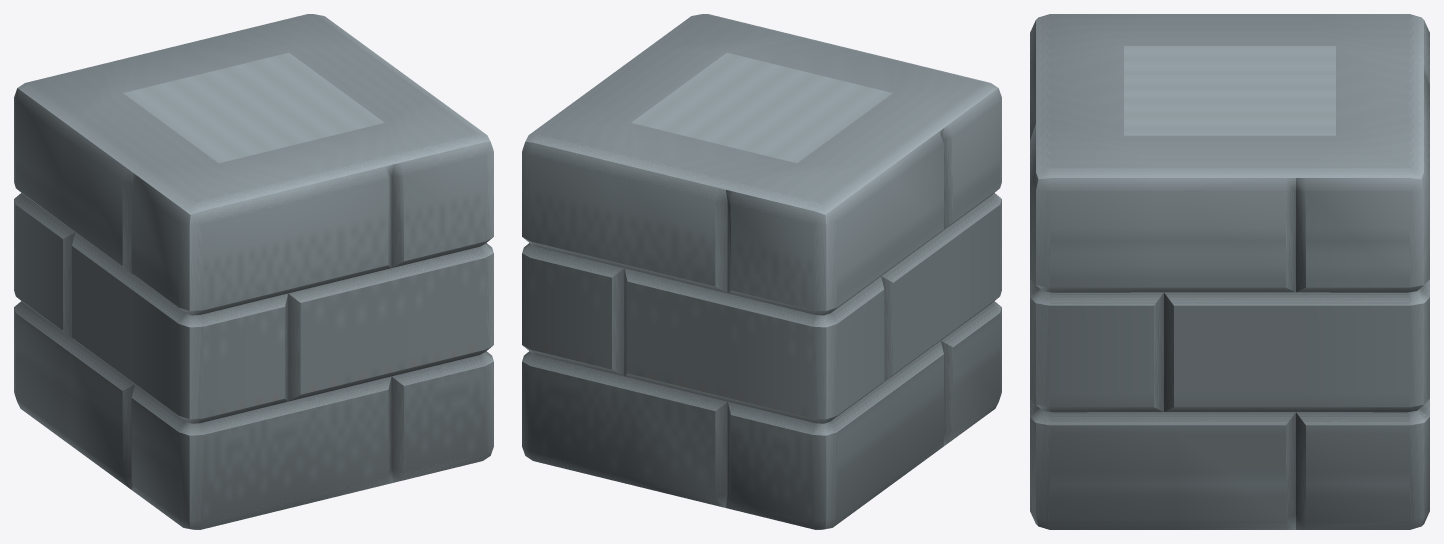
File: block-bricks-a.gltf
3 views of the same model, side by side, from view 1: azimuth 30°, elevation 25°; view 2: azimuth 150°, elevation 25°; view 3: azimuth 270°, elevation 25° (orthographic). The views are drawn at different scales.
Visible parts, largest first — view 1: bricks_A; view 2: bricks_A; view 3: bricks_A.
Part boxes in pixels (<box>): bricks_A: <box>14,14,493,529</box>; bricks_A: <box>522,14,1001,529</box>; bricks_A: <box>1030,14,1429,529</box>.
Bounding box in the file's own units: 2 × 2 × 2.
Materials: 1 (1 with a texture image).
